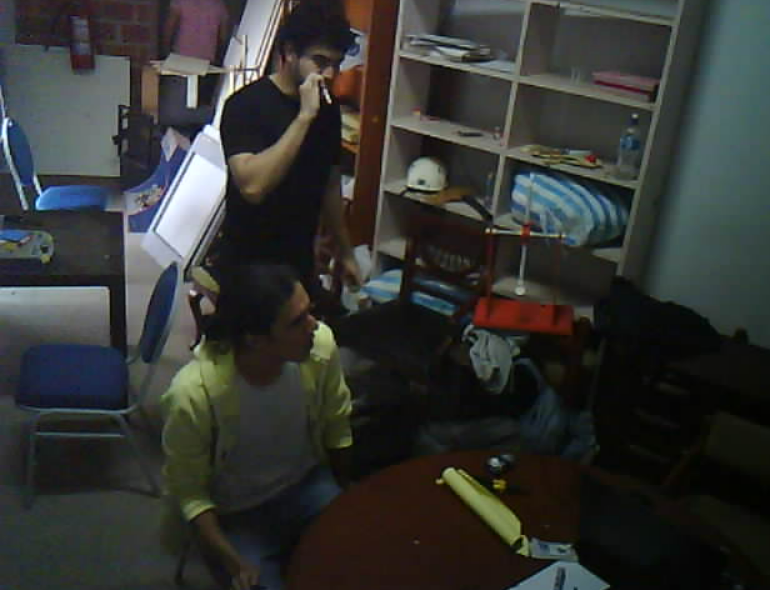person: (170, 258, 389, 590), (218, 4, 375, 274), (160, 0, 235, 74)
